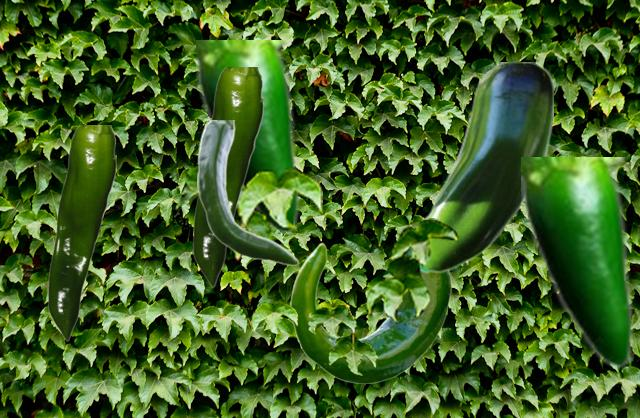green_chili: (408, 62, 552, 273), (290, 234, 451, 382), (521, 157, 633, 368), (196, 40, 299, 234), (192, 67, 262, 286), (47, 125, 115, 340), (197, 120, 298, 264)
